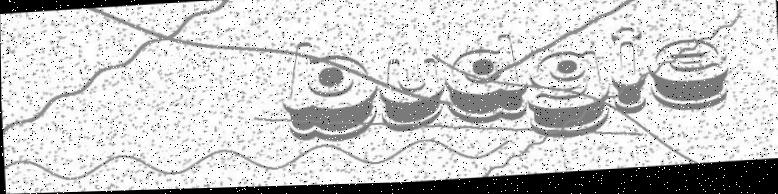b: (279, 38, 380, 146)
d: (441, 34, 530, 128)
e: (646, 40, 729, 117)
g: (525, 50, 612, 145)
i: (608, 29, 648, 119)
u: (381, 57, 444, 136)
